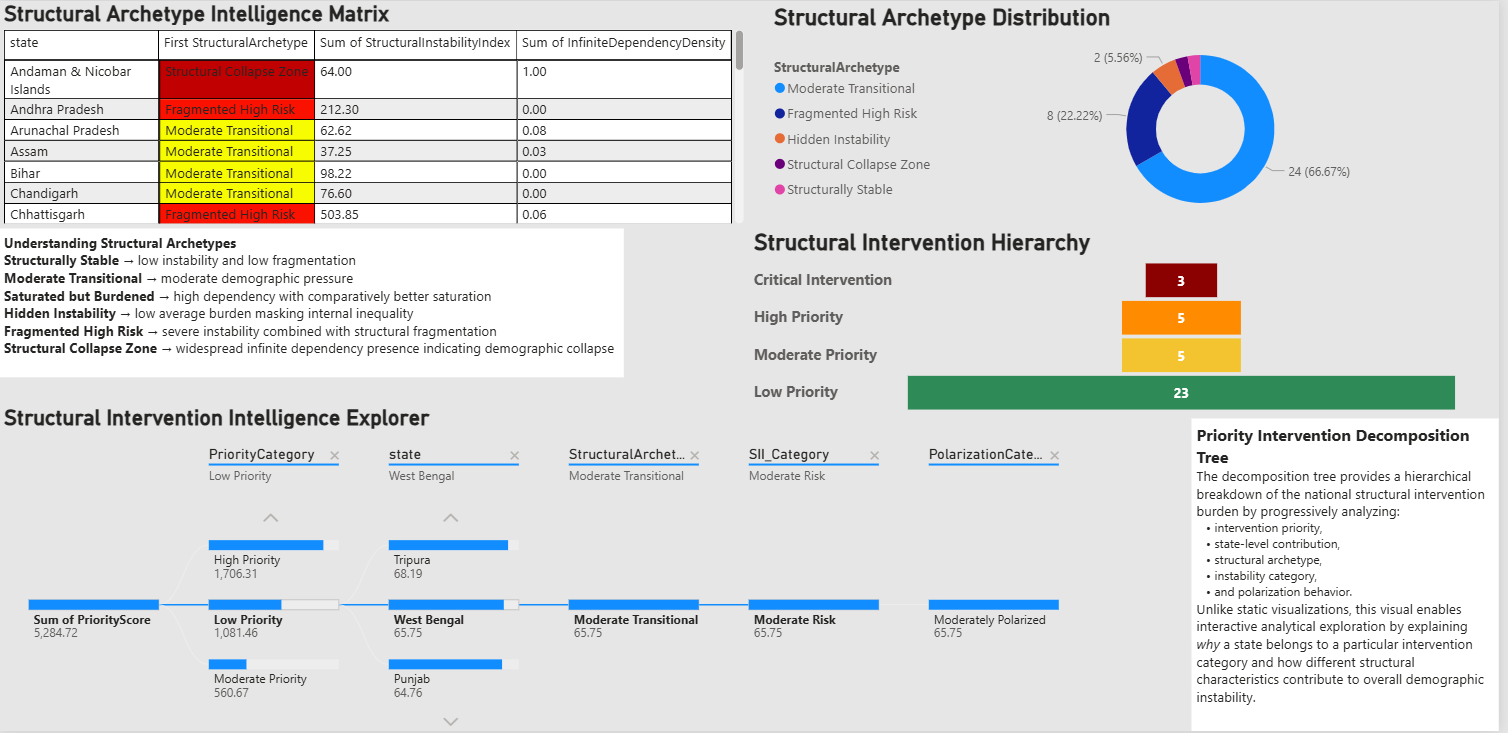

What the dashboard file says about the page in this screenshot:
{"tool":"powerbi","page":{"name":"Structural Intelligence & Intervention Modeling","canvas":[1500,730],"ordinal":2},"visuals":[{"type":"pivotTable","title":"Structural Archetype Intelligence Matrix","fields":{"Rows":["StateSummary.state"],"Values":["Min(StateSummary.StructuralArchetype)","Sum(StateSummary.StructuralInstabilityIndex)","Sum(StateSummary.InfiniteDependencyDensity)"]},"box":[0,0,750,227.5],"z":0},{"type":"textbox","box":[0,227.5,625,148.8],"z":1},{"type":"donutChart","title":"Structural Archetype Distribution","fields":{"Y":["CountNonNull(StateSummary.state)"],"Category":["StateSummary.StructuralArchetype"]},"box":[770,2.5,696.2,225],"z":2},{"type":"funnel","title":"Structural Intervention Hierarchy","fields":{"Y":["CountNonNull(StateSummary.state)"],"Category":["PrioritySortTable.PriorityCategory"]},"box":[750,227.5,716.2,190],"z":3},{"type":"decompositionTreeVisual","title":"Structural Intervention Intelligence Explorer","fields":{"Analyze":["Sum(StateSummary.PriorityScore)"],"ExplainBy":["StateSummary.PriorityCategory","StateSummary.state","StateSummary.StructuralArchetype","StateSummary.SII_Category","StateSummary.PolarizationCategory"]},"box":[0,403.8,1192.5,326.2],"z":4},{"type":"textbox","box":[1192.5,417.5,307.5,312.5],"z":5}]}

Visuals, with their boxes in screenshot pixels (x1, y1, x2, y2), scaled from the page's 1500x730 canvas onto the 1508x733 screenshot:
"Structural Archetype Intelligence Matrix" pivotTable: detection(0, 0, 754, 228)
textbox: detection(0, 228, 628, 378)
"Structural Archetype Distribution" donutChart: detection(774, 3, 1474, 228)
"Structural Intervention Hierarchy" funnel: detection(754, 228, 1474, 419)
"Structural Intervention Intelligence Explorer" decompositionTreeVisual: detection(0, 405, 1199, 732)
textbox: detection(1199, 419, 1507, 732)
